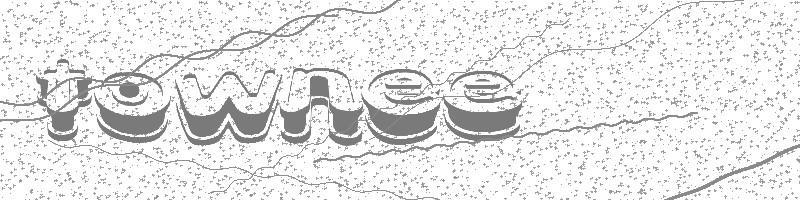e: (440, 65, 524, 145), (362, 64, 440, 147)
n: (284, 66, 365, 143)
o: (96, 68, 169, 142)
t: (34, 54, 91, 143)
w: (173, 69, 281, 147)
